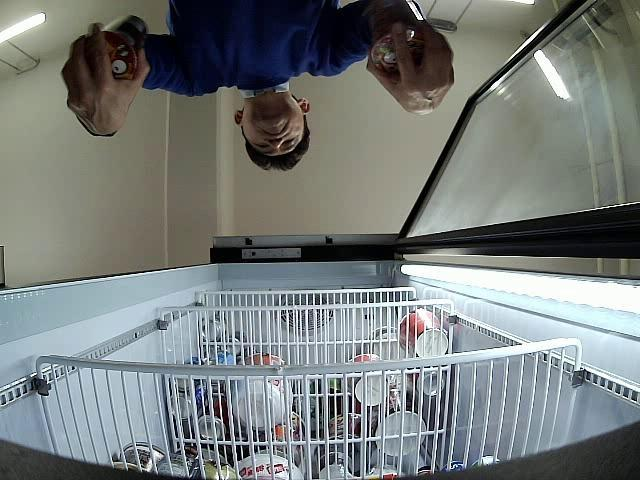06_nuguri_S: (371, 0, 426, 77), (101, 15, 148, 82)
